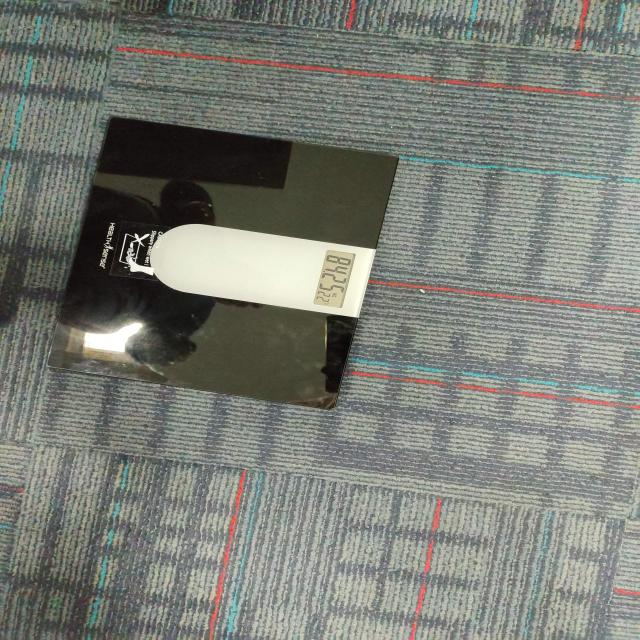ws: (64, 118, 399, 408)
